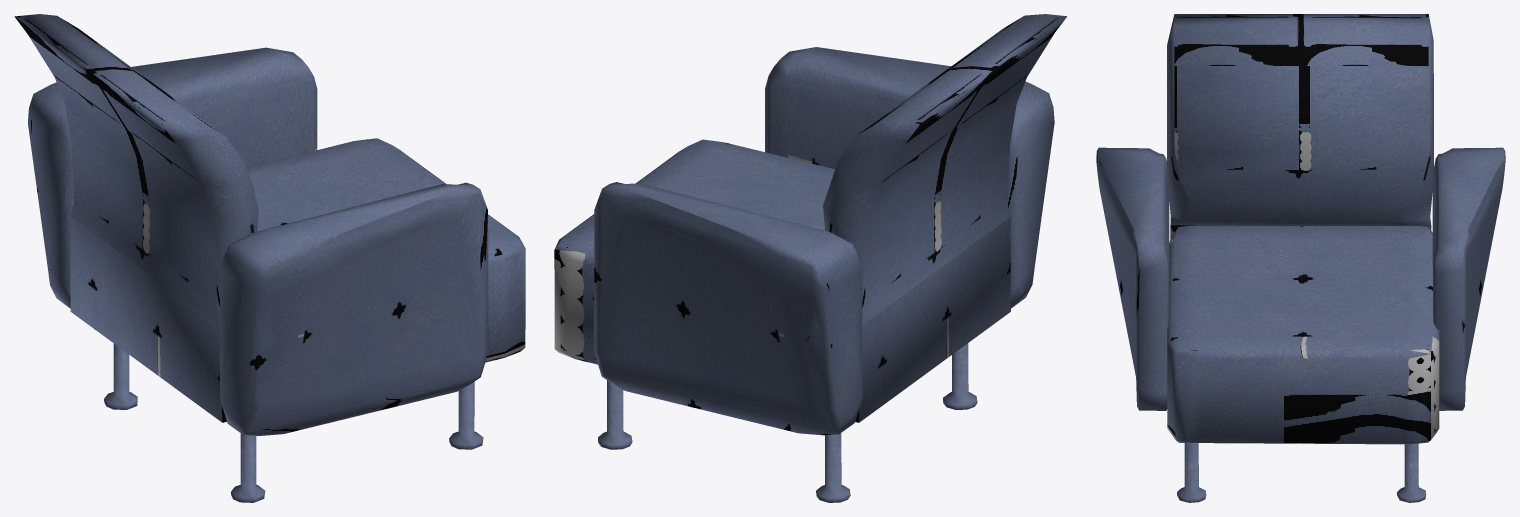
Rendered from SmolBench.fbx.
3 renders of one model, left to right at view 1: azimuth 30°, elevation 25°; view 2: azimuth 150°, elevation 25°; view 3: azimuth 270°, elevation 25°, orthographic. The views are drawn at different scales.
Parts seen in each view (by area): view 1: MiniBench; view 2: MiniBench; view 3: MiniBench.
Part boxes in pixels (x1=…): MiniBench: x1=14, y1=14, x2=525, y2=502; MiniBench: x1=554, y1=14, x2=1066, y2=502; MiniBench: x1=1096, y1=14, x2=1505, y2=502.
Size of the model in its own units: 11.76 by 12.13 by 12.87.
